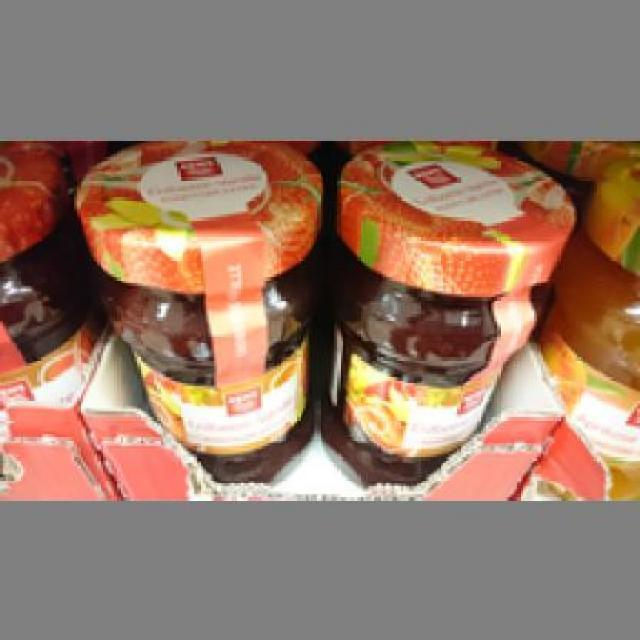Jam: (316, 146, 570, 480), (75, 137, 312, 480)
